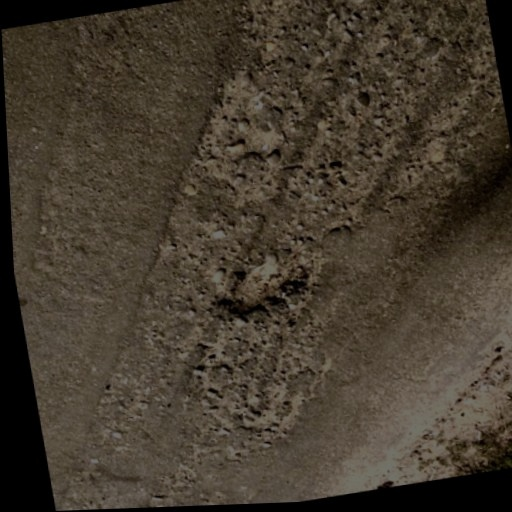pothole: (212, 256, 309, 323)
